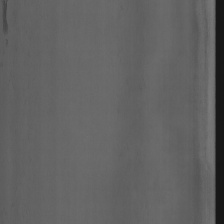water_spot: (0, 0, 17, 56)
